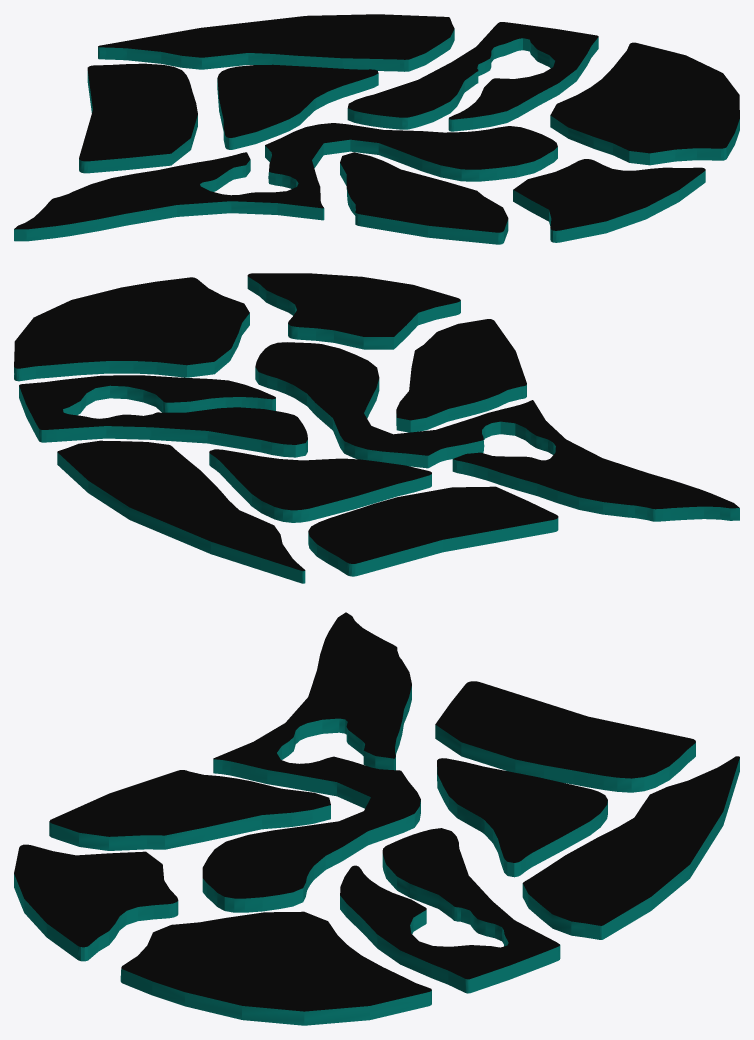
The model's file is tiles_seperate.fbx.
3 views of the same model, one above another, from view 1: azimuth 30°, elevation 25°; view 2: azimuth 150°, elevation 25°; view 3: azimuth 270°, elevation 25° (orthographic). The views are drawn at different scales.
Visible parts, largest first — view 1: polySurface1, polySurface4, polySurface6, polySurface5, polySurface7, polySurface3, polySurface2, polySurface8; view 2: polySurface1, polySurface4, polySurface5, polySurface6, polySurface7, polySurface3, polySurface8, polySurface2; view 3: polySurface1, polySurface4, polySurface6, polySurface5, polySurface7, polySurface2, polySurface3, polySurface8.
Part boxes in pixels (x1,y1,x2,y2): polySurface1: (14,123,557,241); polySurface4: (550,42,739,165); polySurface6: (98,14,454,71); polySurface5: (347,22,598,131); polySurface7: (79,63,197,173); polySurface3: (513,159,705,242); polySurface2: (340,152,508,244); polySurface8: (217,64,378,149); polySurface1: (255,342,739,521); polySurface4: (14,277,249,381); polySurface5: (19,375,307,457); polySurface6: (57,440,305,583); polySurface7: (308,486,558,576); polySurface3: (247,273,460,349); polySurface8: (209,449,431,522); polySurface2: (396,319,526,432); polySurface1: (202,612,420,912); polySurface4: (120,911,431,1025); polySurface6: (522,756,739,939); polySurface5: (340,828,560,993); polySurface7: (435,681,695,792); polySurface2: (49,770,330,850); polySurface3: (14,844,178,961); polySurface8: (437,758,607,877).
Bounding box in the file's own units: 4436 × 75.85 × 3407.
